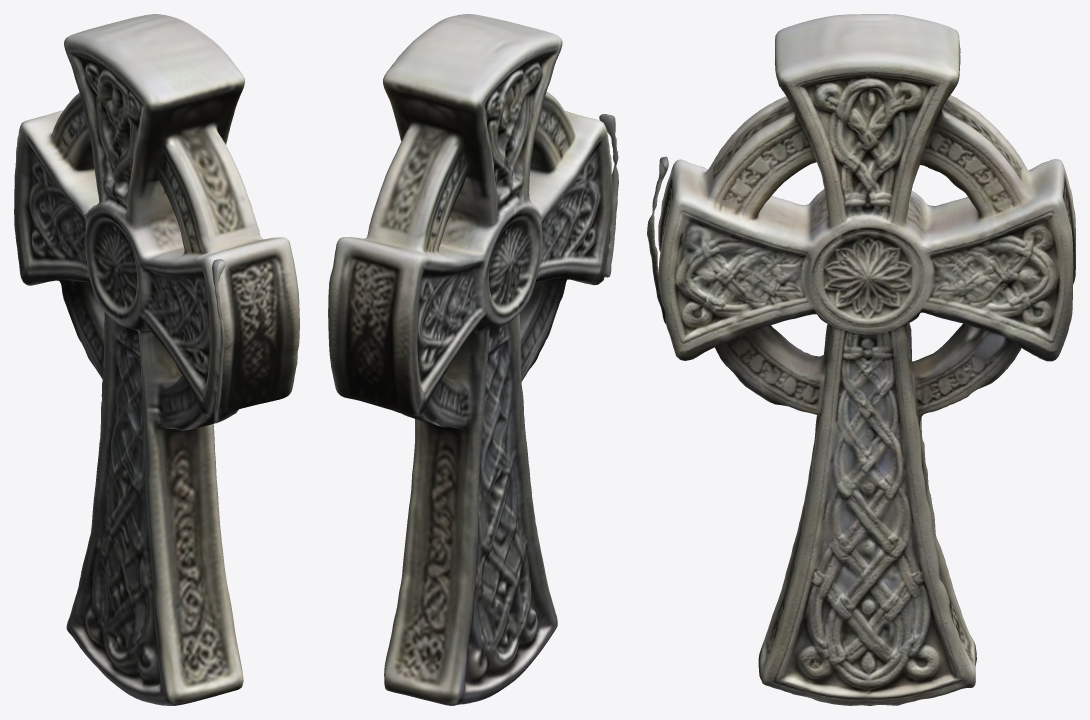
File: celtic_cross_3d.glb
3 renders of one model, left to right at view 1: azimuth 30°, elevation 25°; view 2: azimuth 150°, elevation 25°; view 3: azimuth 270°, elevation 25°, orthographic. The views are drawn at different scales.
Visible parts, largest first — view 1: tripo_node_138033c7-ba15-4924-9105-610cbc9ad77b; view 2: tripo_node_138033c7-ba15-4924-9105-610cbc9ad77b; view 3: tripo_node_138033c7-ba15-4924-9105-610cbc9ad77b.
Part boxes in pixels (x1,y1,x2,y2): tripo_node_138033c7-ba15-4924-9105-610cbc9ad77b: (14,14,299,705); tripo_node_138033c7-ba15-4924-9105-610cbc9ad77b: (328,14,618,705); tripo_node_138033c7-ba15-4924-9105-610cbc9ad77b: (647,14,1075,705).
Size of the model in its own units: 0.1528 by 0.942 by 0.5543.
Materials: 1 (1 with a texture image).
